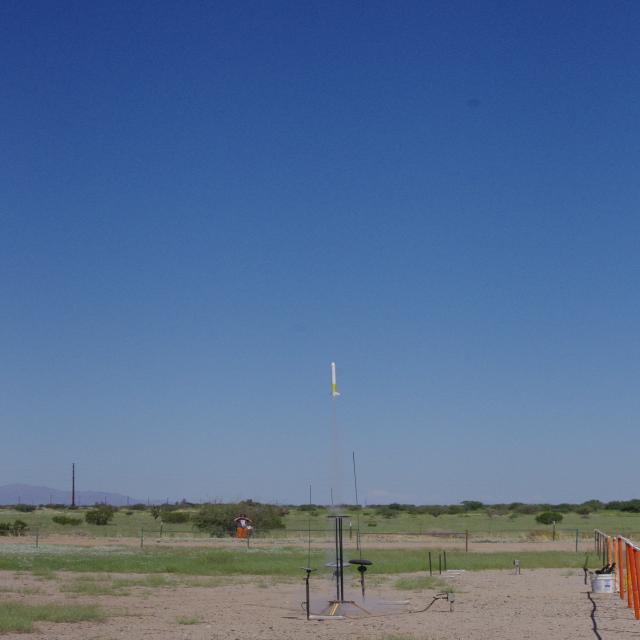Rocket: (328, 362, 341, 398)
